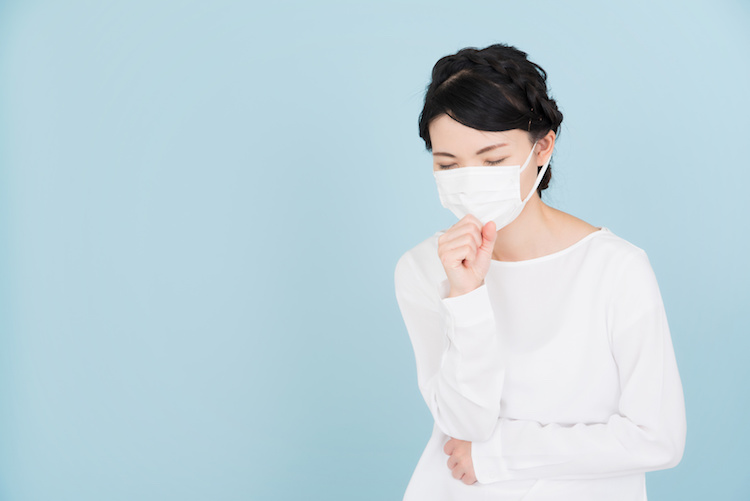mask: (438, 166, 533, 230)
